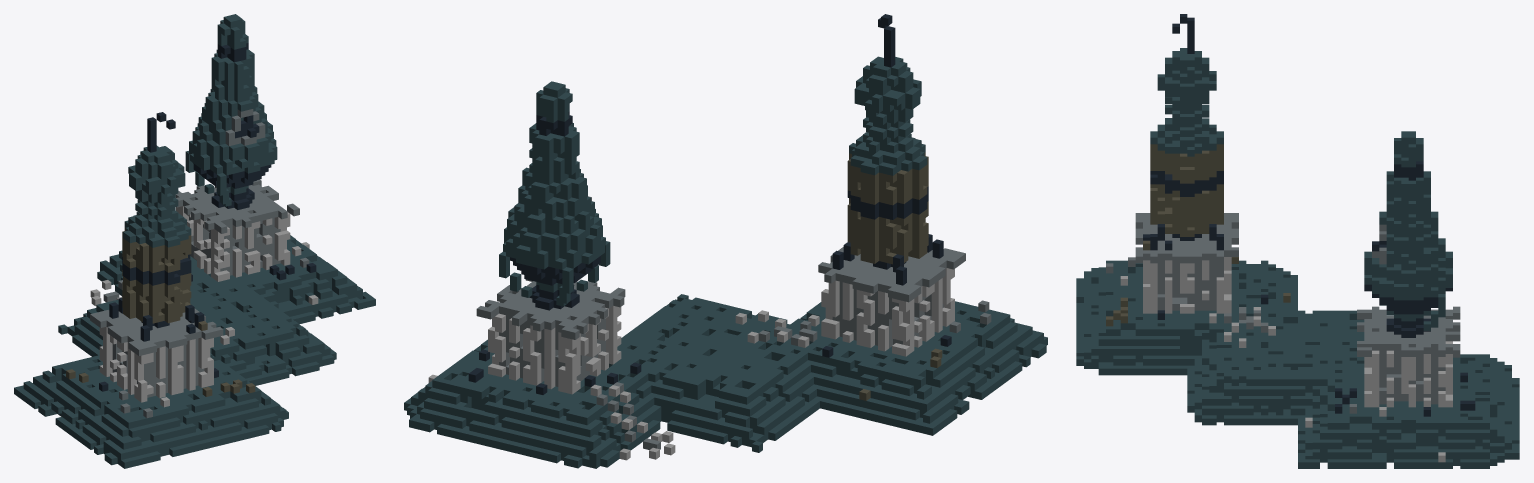
The model's file is capsule_statue_damaged.obj.
3 renders of one model, left to right at view 1: azimuth 30°, elevation 25°; view 2: azimuth 150°, elevation 25°; view 3: azimuth 270°, elevation 25°, orthographic. The views are drawn at different scales.
Size of the model in its own units: 6 by 4.7 by 6.
Materials: 1 (1 with a texture image).
